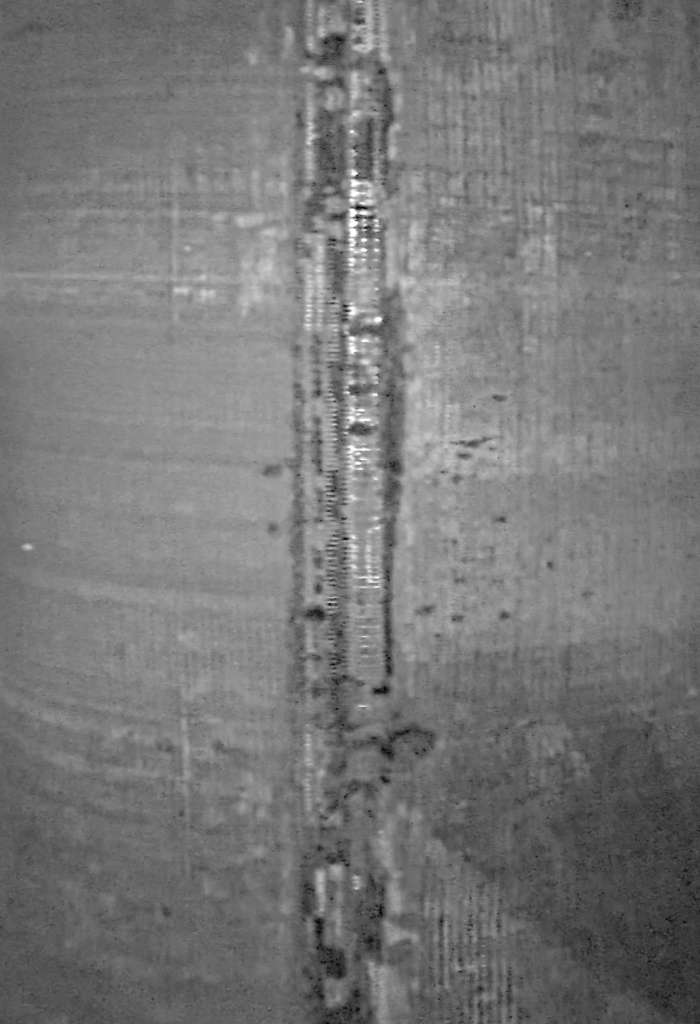splice: (277, 1, 417, 1019)
